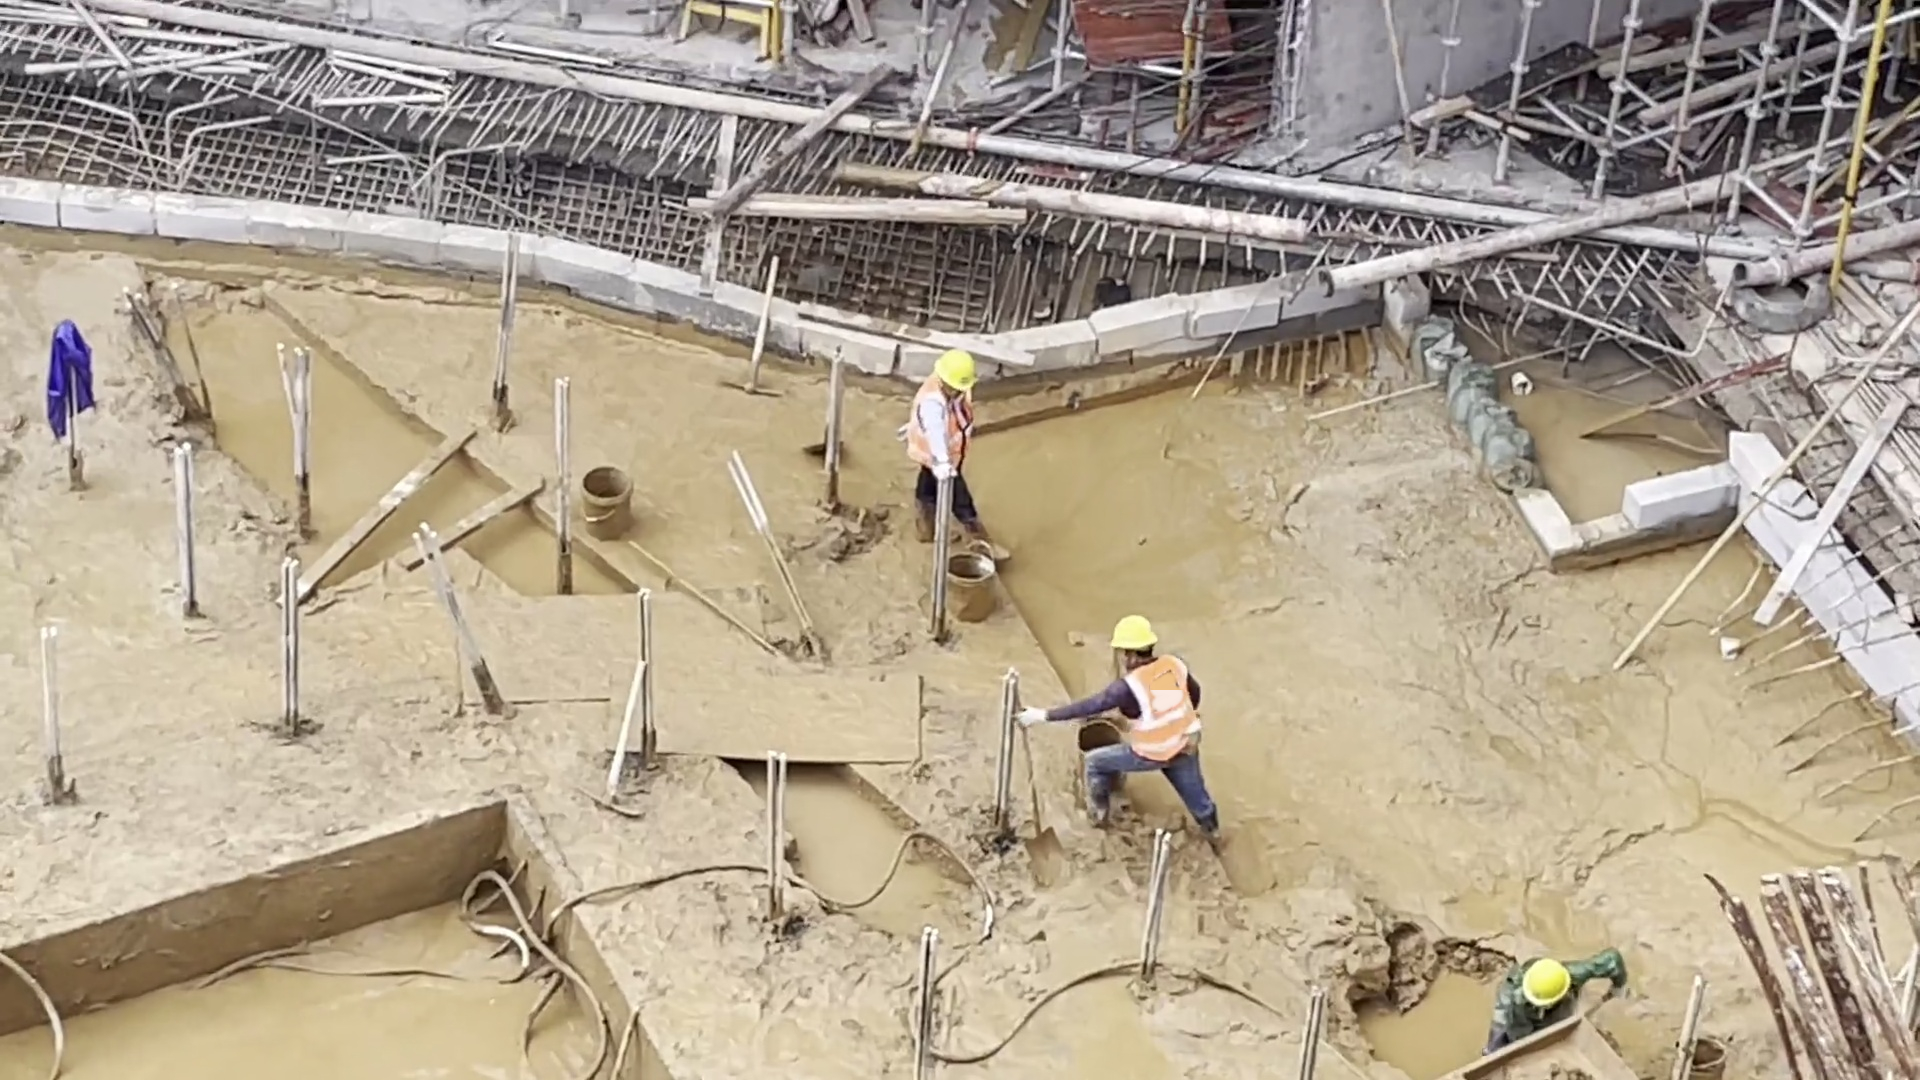helmet: (1521, 957, 1575, 1007), (933, 347, 977, 392), (1110, 615, 1157, 651)
person: (1020, 614, 1229, 857), (909, 346, 1006, 557), (1488, 943, 1633, 1050)
vest: (1117, 650, 1197, 761), (910, 381, 977, 478)
